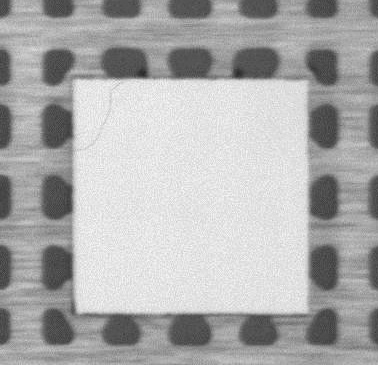DIE_CRACK: (79, 84, 125, 148)
